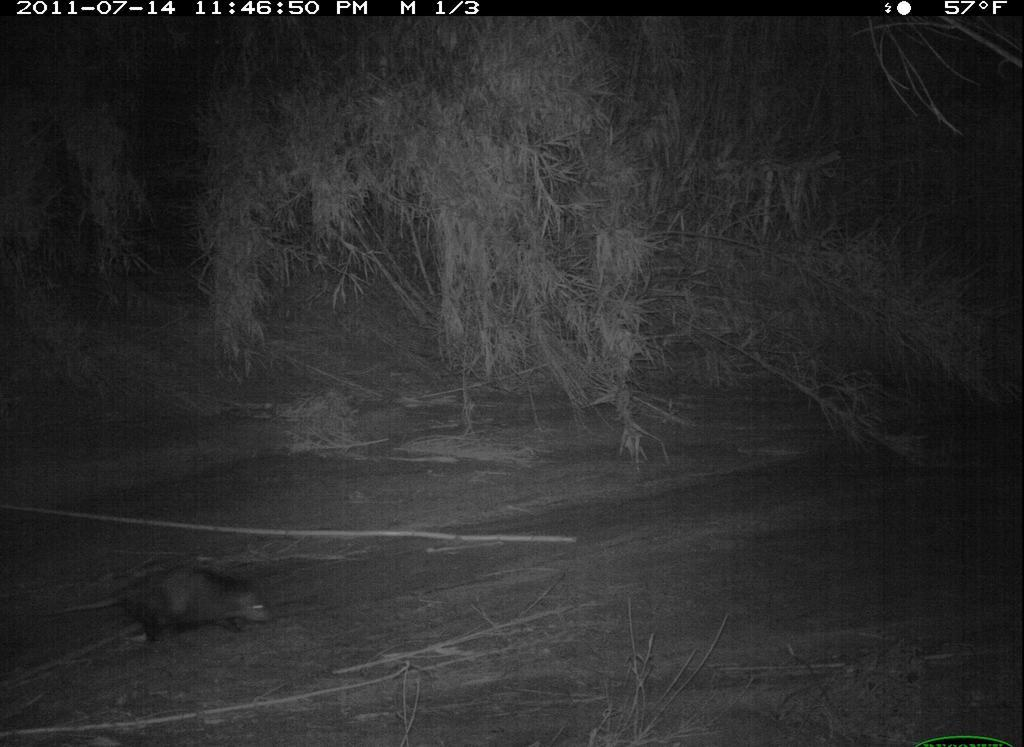opossum: (82, 564, 281, 655)
